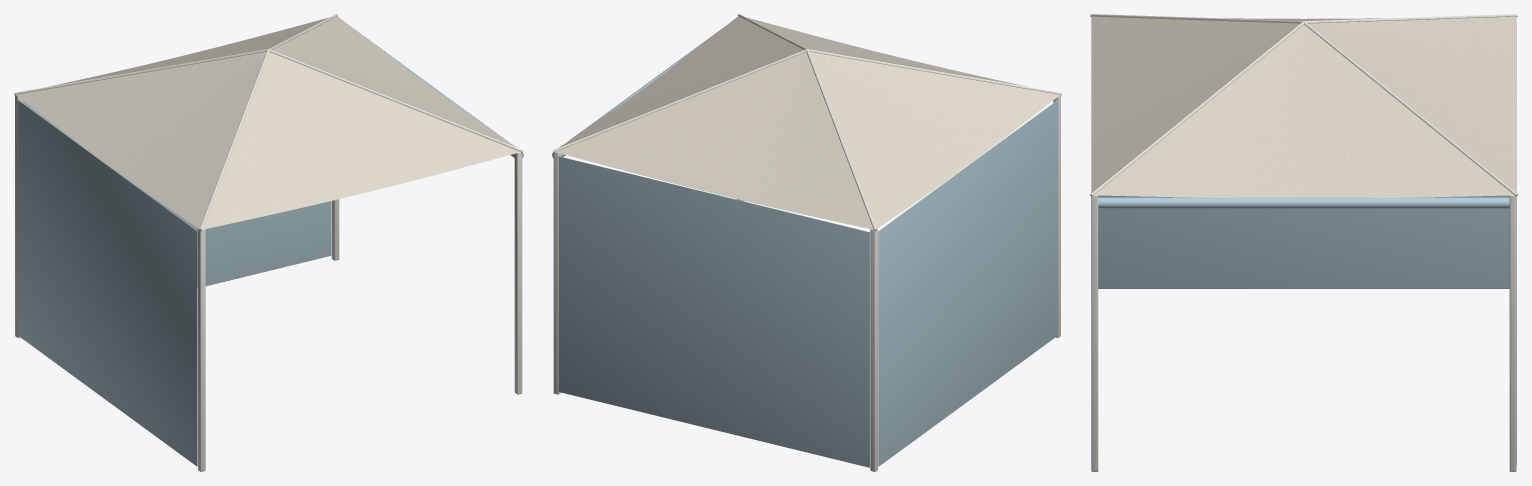
The model's file is carpa_right_exterior.glb.
3 renders of one model, left to right at view 1: azimuth 30°, elevation 25°; view 2: azimuth 150°, elevation 25°; view 3: azimuth 270°, elevation 25°, orthographic. The views are drawn at different scales.
Visible parts, largest first — view 1: carpa_right_exterior; view 2: carpa_right_exterior; view 3: carpa_right_exterior.
Boxes of the visible parts, box(x1,y1,x2,y2) form: carpa_right_exterior: box(14, 14, 523, 471); carpa_right_exterior: box(552, 14, 1061, 471); carpa_right_exterior: box(1090, 14, 1517, 471).
Bounding box in the file's own units: 3.05 × 2.81 × 3.02.
3 materials, 1 textured.
